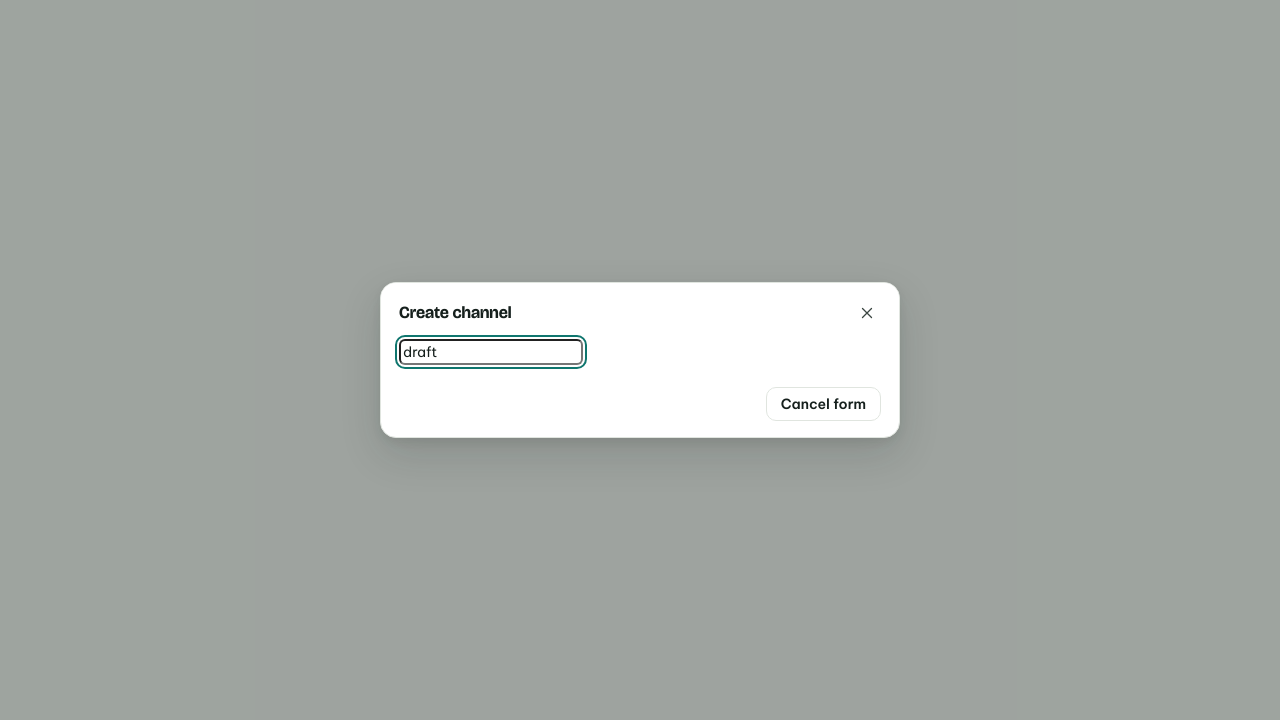
a form with content › Keep editing closes the question and returns focus to the last field
Click the button named "Close": (867, 313) [853,299,881,327]
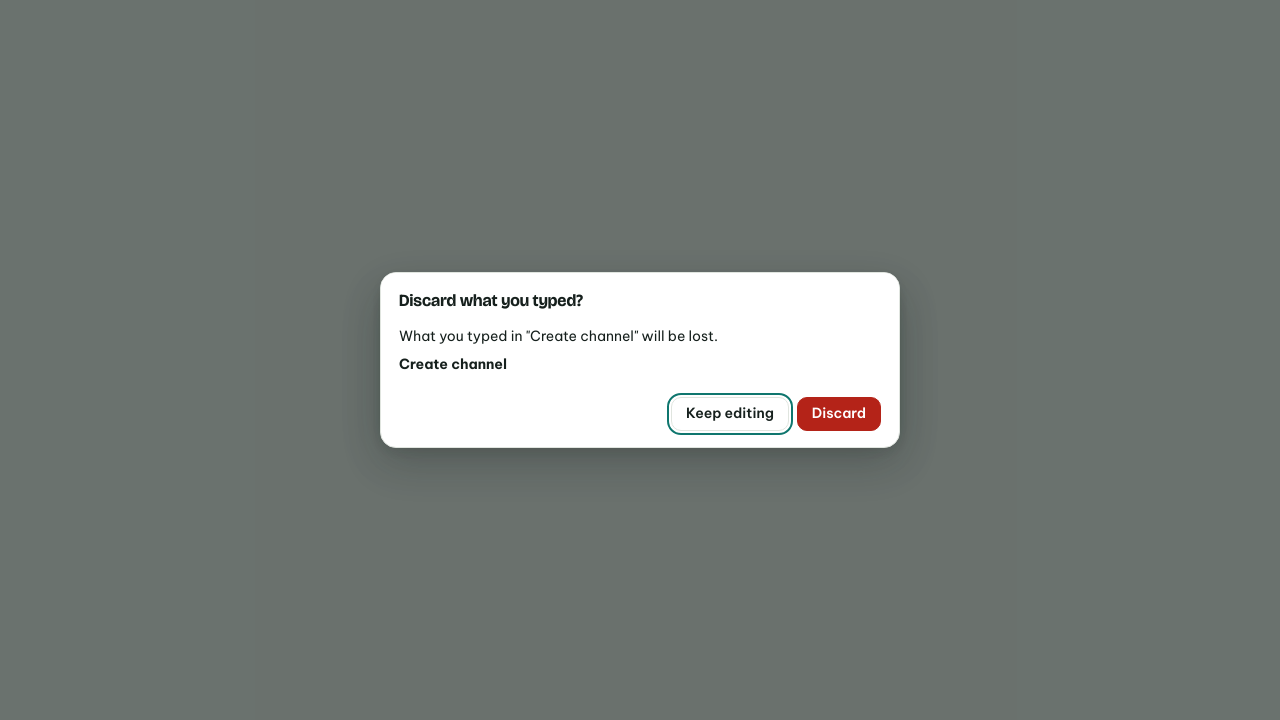
Click the button "Keep editing": (730, 414) [671,397,789,431]
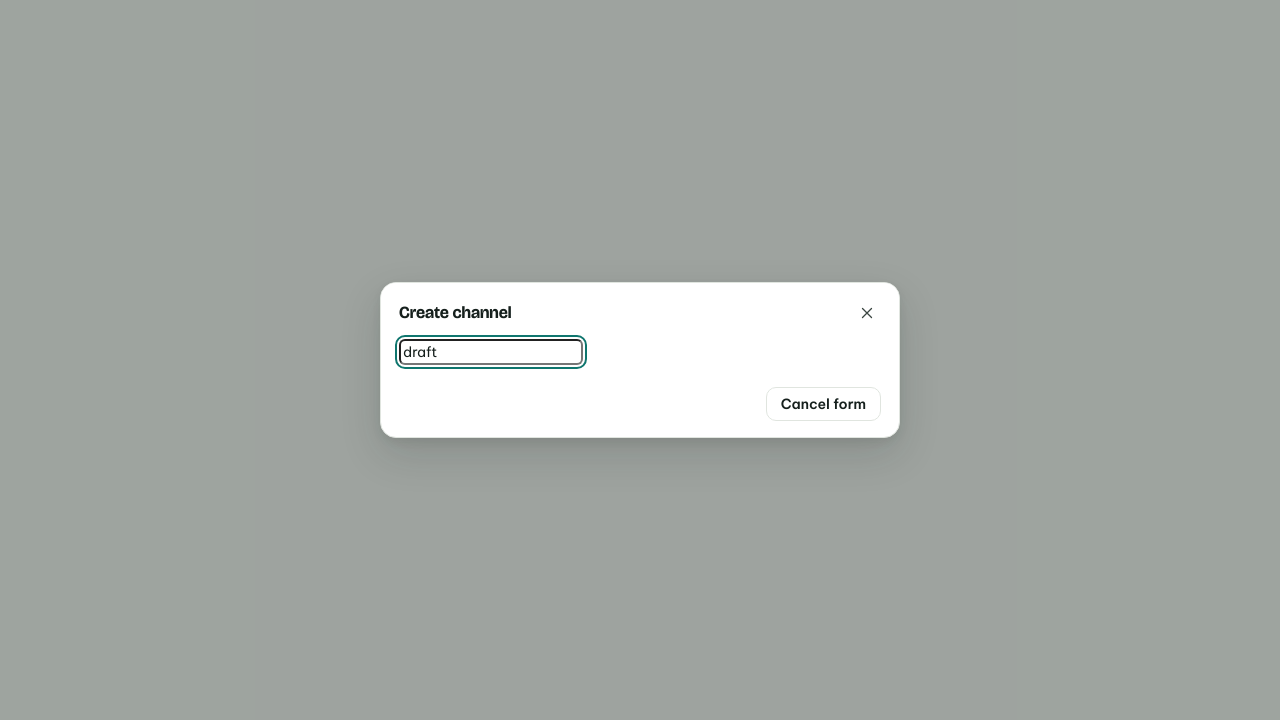
Expected: the field named "Name" holds "draft", [399,339,583,365]
Expected: the heading "Discard what you typed?" is gone
